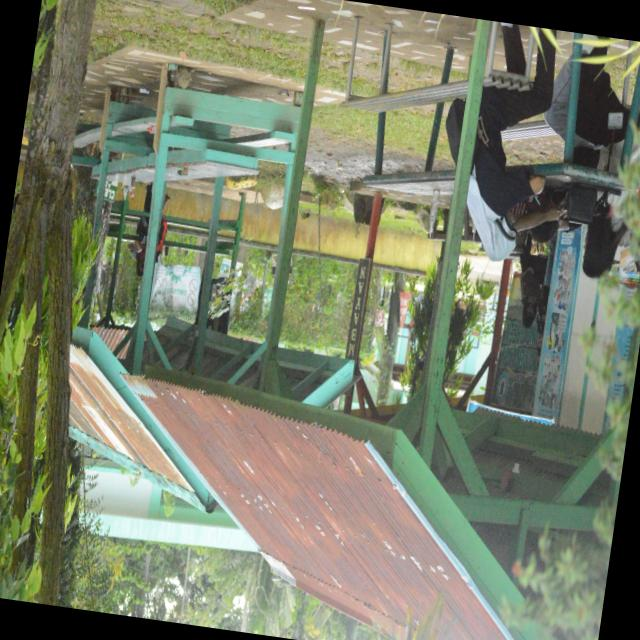person: (573, 62, 628, 172), (519, 233, 547, 327)
